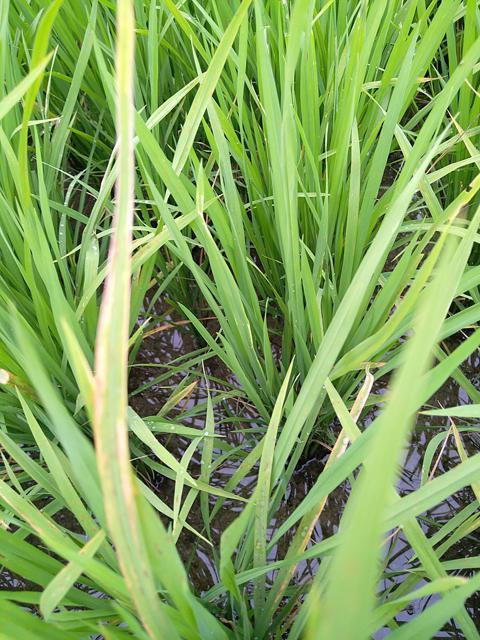Leaf Blight: (94, 0, 161, 639)
